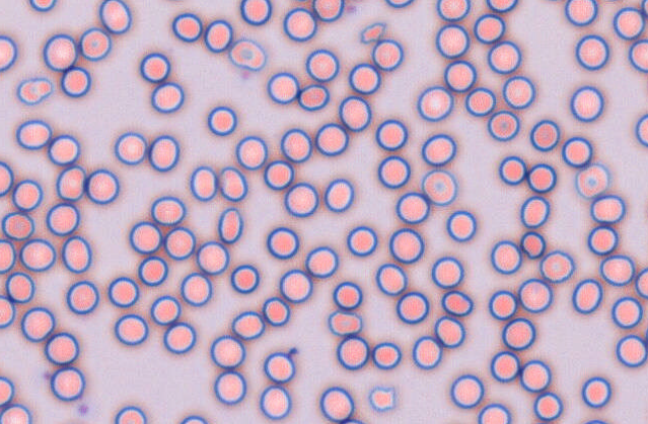PLT: (78, 403, 89, 414), (43, 370, 52, 381)
RBC: (420, 168, 457, 205), (42, 33, 78, 71), (574, 162, 610, 199), (416, 85, 453, 121), (388, 227, 424, 263), (569, 85, 604, 122), (319, 386, 354, 422), (209, 334, 245, 369), (284, 181, 319, 217), (50, 366, 85, 401), (449, 373, 484, 408), (20, 306, 55, 341), (517, 278, 552, 313), (575, 34, 609, 70), (539, 249, 575, 283), (85, 168, 119, 204), (19, 238, 56, 271), (435, 23, 469, 58), (44, 331, 79, 365), (338, 95, 371, 131), (61, 235, 92, 273), (282, 7, 316, 41), (487, 40, 521, 74), (305, 48, 339, 82), (45, 202, 79, 236), (65, 280, 99, 314), (336, 335, 369, 370), (421, 133, 456, 166), (571, 278, 603, 314), (599, 254, 635, 286), (148, 134, 179, 171), (213, 370, 246, 404), (612, 6, 645, 40), (395, 291, 429, 324), (502, 75, 535, 109), (196, 240, 229, 274), (395, 191, 429, 224), (315, 122, 348, 156), (501, 317, 535, 350), (114, 131, 147, 165), (304, 245, 338, 278), (279, 268, 312, 302), (259, 384, 291, 419), (280, 127, 312, 162), (490, 239, 522, 274), (15, 119, 52, 149), (443, 59, 476, 92), (266, 71, 299, 104), (129, 221, 162, 254), (377, 155, 410, 188), (266, 226, 299, 259), (99, 0, 131, 34), (79, 27, 111, 61), (163, 226, 195, 260), (180, 272, 212, 306), (114, 313, 148, 345), (150, 81, 184, 113), (235, 135, 267, 169), (55, 165, 85, 201), (150, 195, 186, 225), (615, 334, 647, 367), (519, 359, 551, 392), (375, 262, 407, 295), (163, 321, 196, 353), (433, 315, 465, 348), (487, 109, 520, 141), (431, 256, 464, 288), (411, 335, 442, 369), (323, 178, 354, 212), (590, 194, 625, 224), (189, 165, 218, 201), (348, 62, 380, 94), (263, 351, 295, 383), (371, 38, 403, 70), (375, 118, 407, 150), (611, 296, 643, 328), (47, 134, 80, 165), (519, 195, 550, 228), (231, 310, 265, 340), (218, 166, 247, 201), (489, 350, 520, 382), (12, 179, 43, 211), (107, 276, 139, 307), (445, 209, 476, 241), (529, 119, 560, 151), (217, 206, 243, 243), (60, 66, 91, 97), (263, 159, 294, 190), (137, 255, 168, 286), (139, 52, 170, 83), (346, 225, 377, 256), (561, 136, 592, 167), (473, 13, 505, 43), (5, 271, 35, 303), (464, 86, 496, 116), (581, 376, 611, 408), (1, 211, 34, 240), (203, 19, 232, 52), (327, 309, 362, 336), (171, 12, 202, 42), (150, 295, 181, 325), (587, 225, 618, 255), (533, 391, 563, 421), (207, 105, 237, 135), (527, 162, 556, 193), (488, 289, 517, 320), (564, 0, 598, 26), (261, 296, 290, 326), (332, 280, 362, 309), (230, 263, 259, 293), (441, 289, 473, 316), (371, 341, 401, 369), (498, 155, 526, 185), (298, 83, 329, 110), (239, 0, 271, 25), (477, 402, 511, 423), (436, 0, 470, 21), (312, 0, 344, 21), (628, 38, 647, 72), (0, 34, 17, 71), (0, 403, 31, 423), (114, 405, 146, 423), (0, 239, 16, 273), (0, 160, 14, 196), (0, 295, 15, 328), (0, 375, 14, 405), (635, 113, 647, 147), (485, 0, 518, 12), (635, 266, 647, 298), (29, 0, 56, 11), (179, 414, 208, 423), (384, 0, 414, 8), (641, 0, 648, 16), (644, 325, 648, 344)
Schistocyte: (230, 38, 268, 72), (16, 78, 53, 106), (369, 386, 397, 412), (522, 232, 546, 259), (361, 22, 389, 44)
